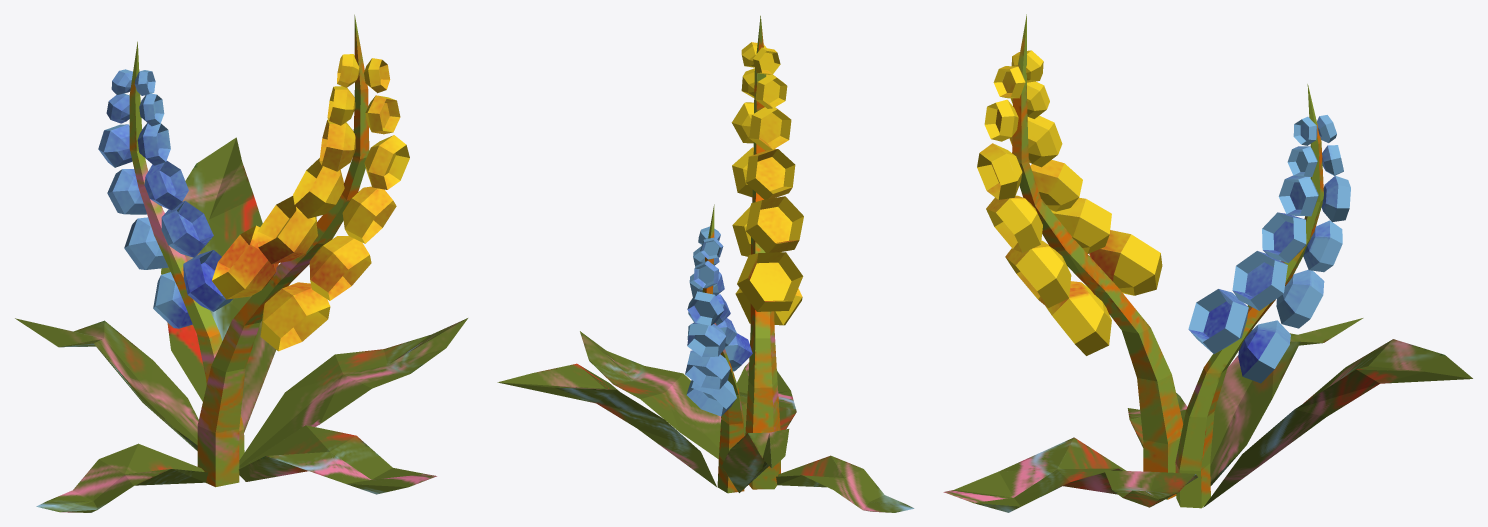
The model's file is FLOR 04.fbx.
3 views of the same model, side by side, from view 1: azimuth 30°, elevation 25°; view 2: azimuth 150°, elevation 25°; view 3: azimuth 270°, elevation 25° (orthographic). The views are drawn at different scales.
Parts seen in each view (by area): view 1: flower_2.029, flower_2.017, flower_2.010, flower_2.009; view 2: flower_2.029, flower_2.017, flower_2.009, flower_2.010; view 3: flower_2.029, flower_2.017, flower_2.009, flower_2.010.
Part boxes in pixels (x1,y1,x2,y2): flower_2.029: (15,137,467,512); flower_2.017: (212,54,409,351); flower_2.010: (129,14,369,487); flower_2.009: (98,69,232,328); flower_2.029: (497,331,914,512); flower_2.017: (731,42,803,325); flower_2.009: (685,226,752,416); flower_2.010: (702,15,780,493); flower_2.029: (943,318,1472,512); flower_2.017: (977,50,1162,355); flower_2.009: (1188,115,1350,383); flower_2.010: (1012,14,1323,508).
Bounding box in the file's own units: 198 × 226 × 212.
